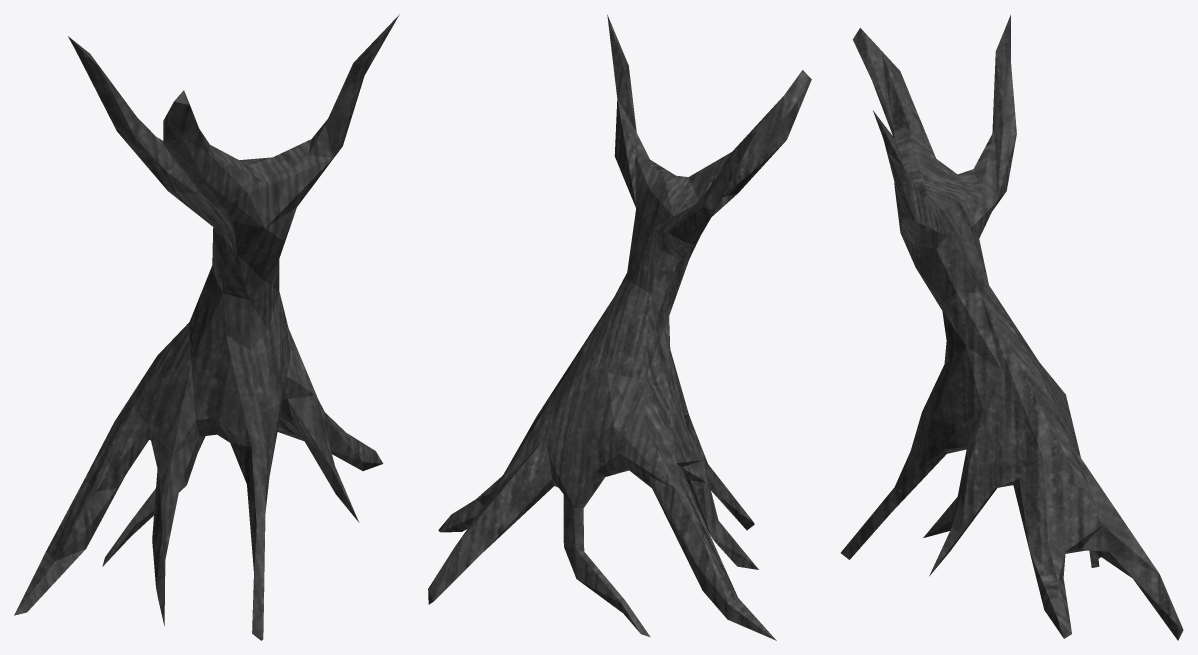
The model's file is Arvore_B_Escura.fbx.
3 views of the same model, side by side, from view 1: azimuth 30°, elevation 25°; view 2: azimuth 150°, elevation 25°; view 3: azimuth 270°, elevation 25° (orthographic). The views are drawn at different scales.
Parts seen in each view (by area): view 1: Arvore_B; view 2: Arvore_B; view 3: Arvore_B.
Boxes of the visible parts, x1,y1,x2,y2 form: Arvore_B: [14, 14, 399, 640]; Arvore_B: [428, 15, 811, 640]; Arvore_B: [841, 15, 1183, 640].
Size of the model in its own units: 389 by 582 by 339.
1 material, 1 textured.
